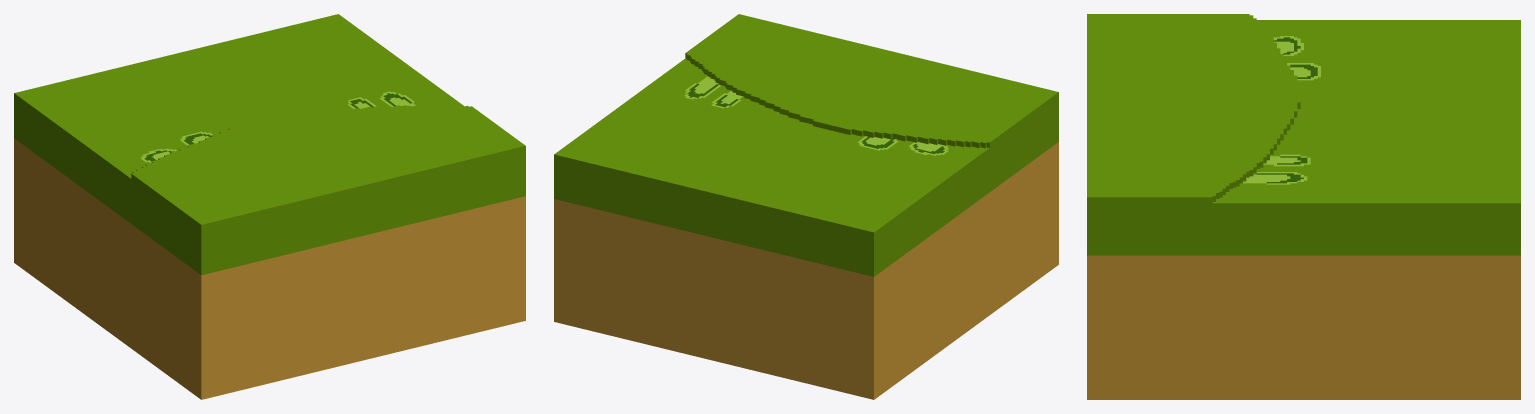
3 views of the same model, side by side, from view 1: azimuth 30°, elevation 25°; view 2: azimuth 150°, elevation 25°; view 3: azimuth 270°, elevation 25° (orthographic). The views are drawn at different scales.
Parts seen in each view (by area): view 1: 15A; view 2: 15A; view 3: 15A.
Boxes of the visible parts, x1,y1,x2,y2 form: 15A: (14, 14, 525, 399); 15A: (554, 14, 1058, 399); 15A: (1087, 14, 1520, 399).
Size of the model in its own units: 12.8 by 6.6 by 12.8.
Materials: 1 (1 with a texture image).
